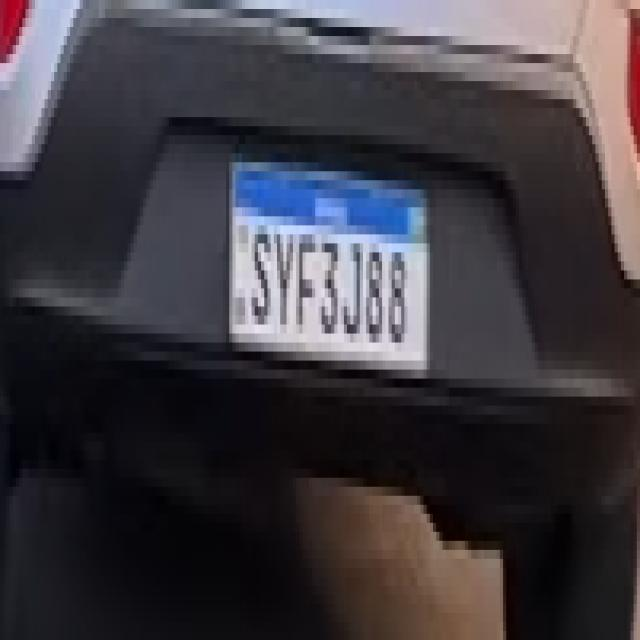Placa_mercosul_carro: (228, 154, 430, 374)
